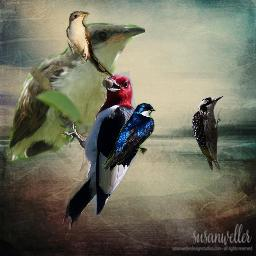Cuckoo: (5, 22, 145, 164), (66, 11, 113, 79)
Swallow: (102, 103, 156, 172)
Woodpecker: (57, 65, 144, 234), (189, 92, 226, 174)
